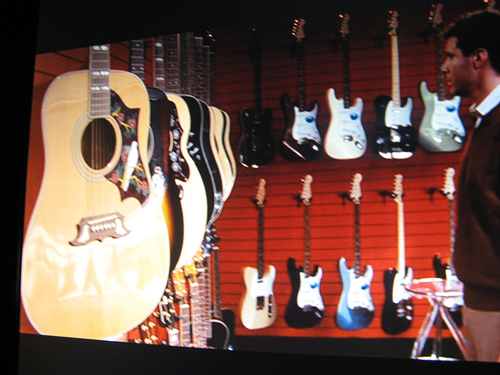guitar: (20, 41, 172, 340)
